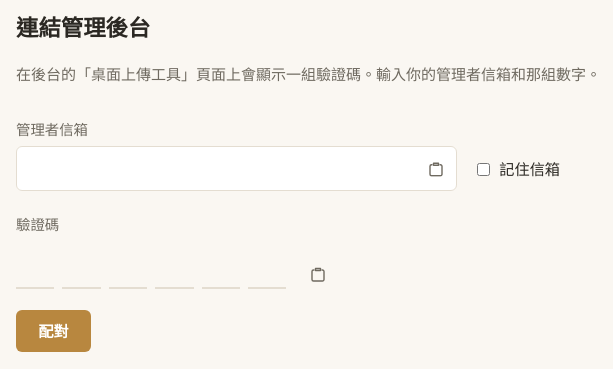
the paste button puts the clipboard into the email field
This screenshot has width=613, height=369.
Click the button named "貼上信箱" at (436, 169), box [421,154,451,184]
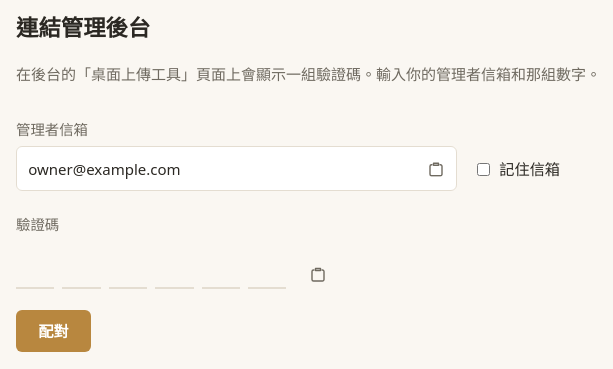
Now the field labelled "管理者信箱" holds "owner@example.com", box [16,146,457,192]
